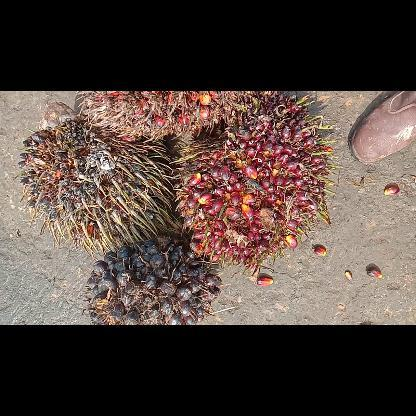TBS abnormal: (18, 102, 174, 246)
TBS masak: (177, 94, 333, 266)
TBS mentah: (86, 232, 220, 324)
Terlalu masak: (74, 90, 274, 136)
